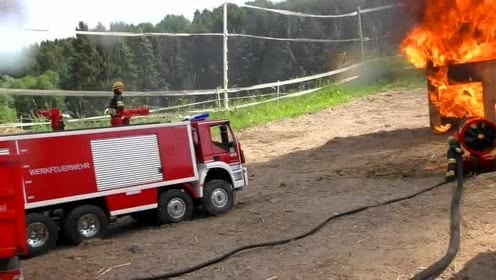fire: (400, 0, 496, 151)
